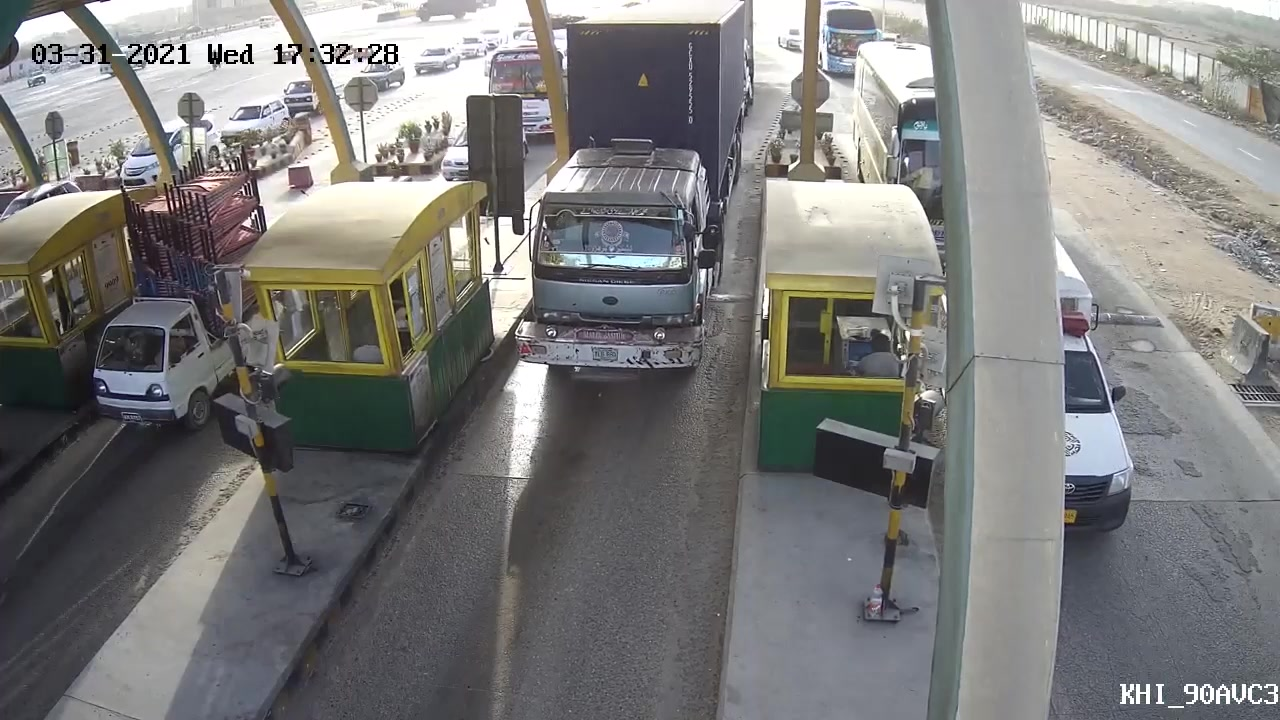F6: (512, 1, 757, 379)
